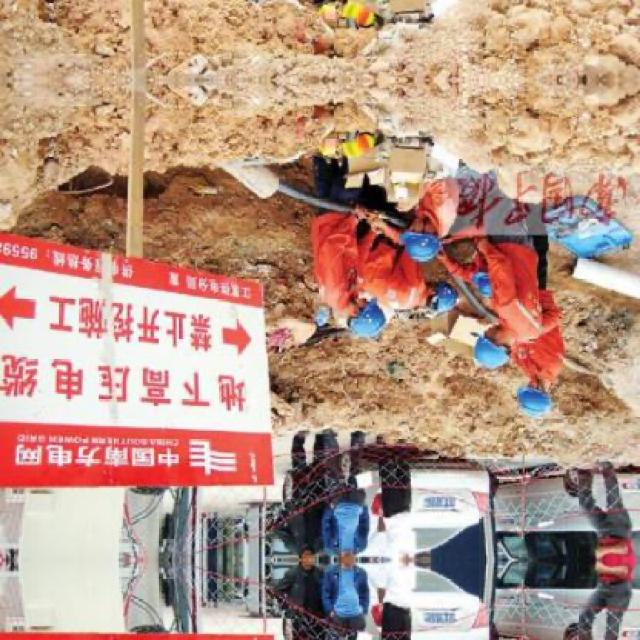con casco: (329, 289, 399, 357), (488, 388, 553, 439), (455, 329, 514, 376)
